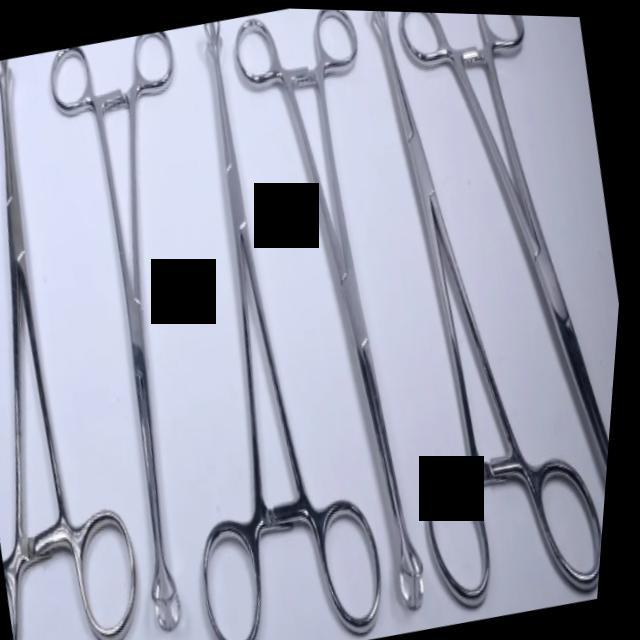Babcock Forceps: (81, 3, 441, 640), (320, 8, 640, 622), (192, 5, 480, 634), (8, 26, 294, 640), (353, 9, 640, 610), (0, 46, 198, 640)
